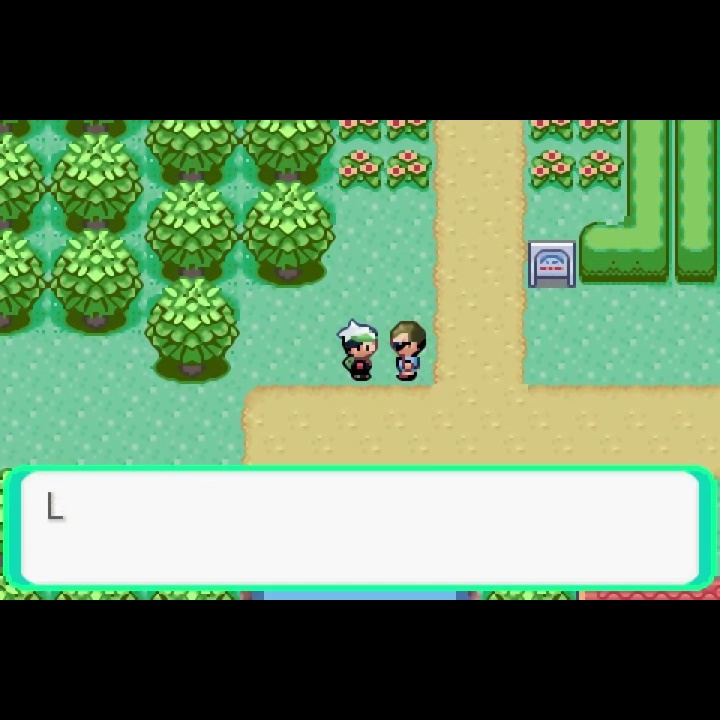npc: (333, 314, 381, 386), (385, 316, 430, 386)
wall: (238, 179, 337, 290), (48, 227, 145, 339), (144, 277, 242, 385), (145, 178, 239, 282), (48, 136, 145, 231), (241, 120, 337, 180), (146, 121, 240, 182), (1, 227, 48, 336), (1, 137, 48, 226), (48, 121, 145, 143), (1, 119, 48, 141)
